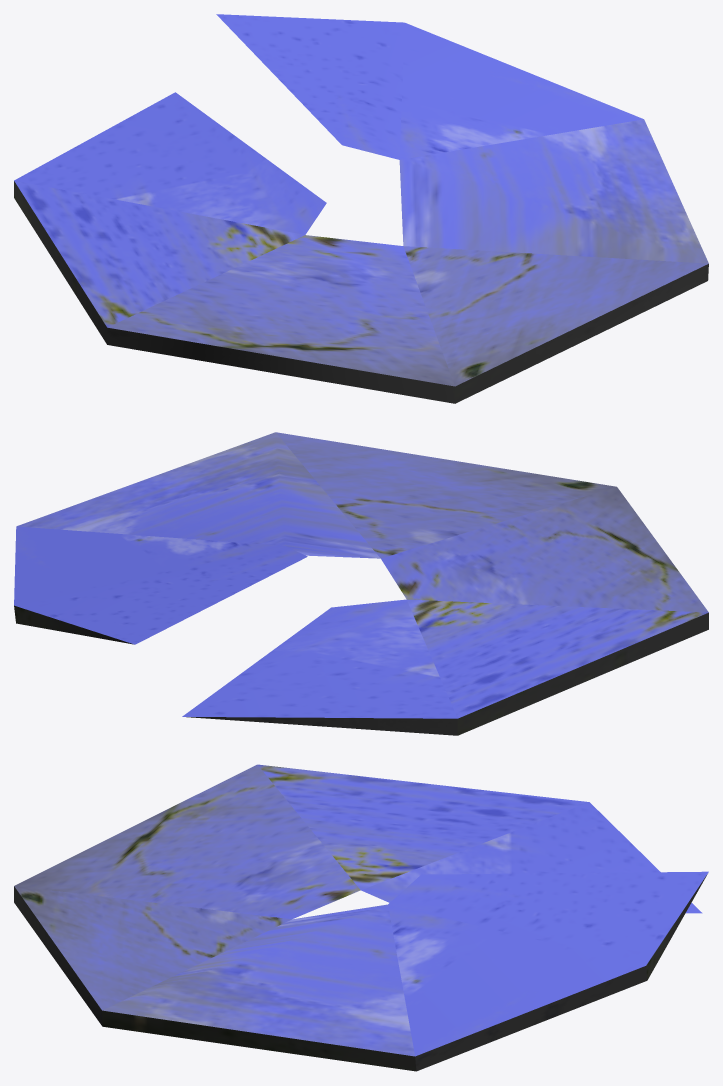
3 views of the same model, one above another, from view 1: azimuth 30°, elevation 25°; view 2: azimuth 150°, elevation 25°; view 3: azimuth 270°, elevation 25° (orthographic). The views are drawn at different scales.
Visible parts, largest first — view 1: cd_03; view 2: cd_03; view 3: cd_03.
Boxes of the visible parts, <box> form: cd_03: <box>14,14,708,403</box>; cd_03: <box>14,432,708,735</box>; cd_03: <box>14,764,708,1071</box>.
Bounding box in the file's own units: 0.1259 × 0.0181 × 0.128.
